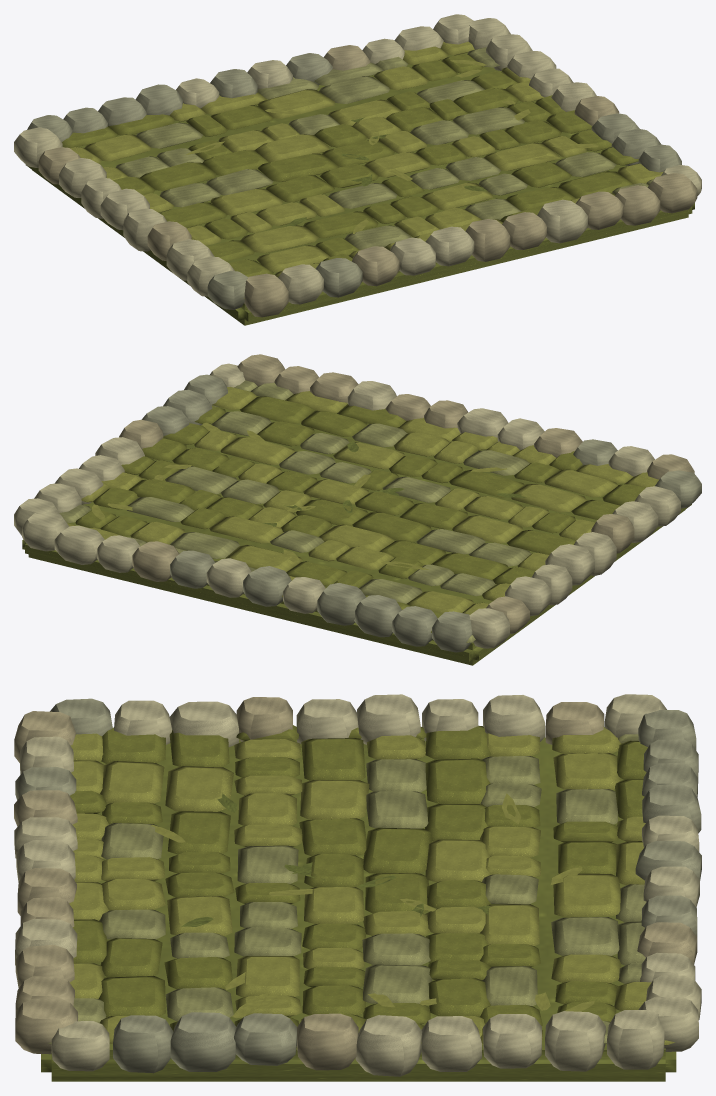
The model's file is return-desk-archive-roof.fbx.
The picture shows the model from 3 angles, top to bottom: view 1: azimuth 30°, elevation 25°; view 2: azimuth 150°, elevation 25°; view 3: azimuth 270°, elevation 25°; orthographic projection. The views are drawn at different scales.
Visible parts, largest first — view 1: return-desk-archive-roof__Geometry; view 2: return-desk-archive-roof__Geometry; view 3: return-desk-archive-roof__Geometry.
Boxes of the visible parts, box(x1,y1,x2,y2) form: return-desk-archive-roof__Geometry: box(14, 14, 701, 325); return-desk-archive-roof__Geometry: box(14, 354, 701, 665); return-desk-archive-roof__Geometry: box(14, 694, 701, 1081).
Size of the model in its own units: 6.51 by 0.5714 by 5.48.
